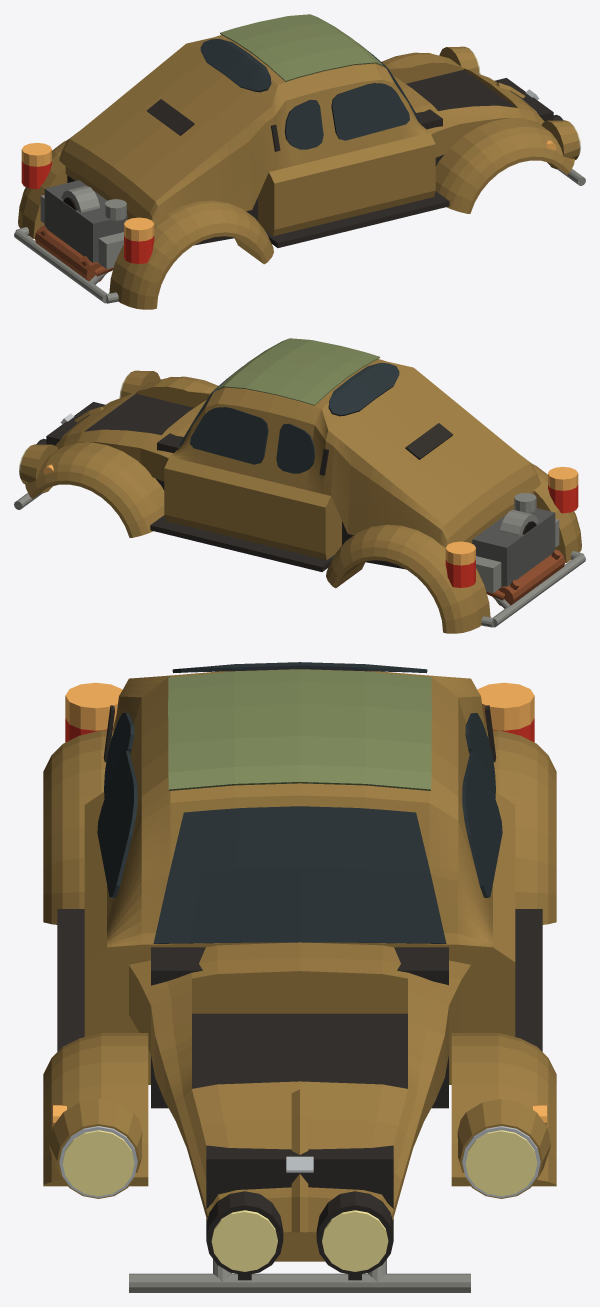
File: base_courier.glb
3 renders of one model, top to bottom at view 1: azimuth 30°, elevation 25°; view 2: azimuth 150°, elevation 25°; view 3: azimuth 270°, elevation 25°, orthographic. The views are drawn at different scales.
Visible parts, largest first — view 1: base_courier; view 2: base_courier; view 3: base_courier.
Part boxes in pixels (x1,y1,x2,y2): base_courier: [14, 14, 585, 309]; base_courier: [14, 338, 585, 633]; base_courier: [43, 662, 556, 1292].
Bounding box in the file's own units: 4.1 × 1.38 × 1.86.
